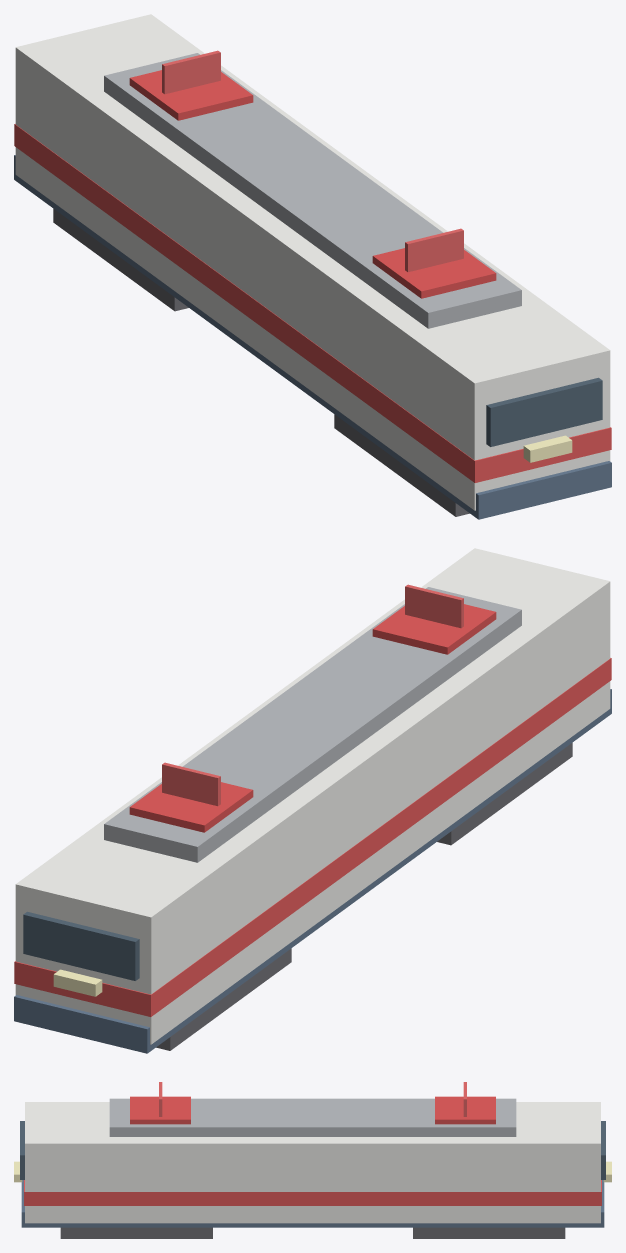
File: AURORA_engine.glb
3 renders of one model, top to bottom at view 1: azimuth 30°, elevation 25°; view 2: azimuth 150°, elevation 25°; view 3: azimuth 270°, elevation 25°, orthographic. The views are drawn at different scales.
Parts seen in each view (by area): view 1: RootNode; view 2: RootNode; view 3: RootNode.
Boxes of the visible parts, x1,y1,x2,y2 form: RootNode: [14, 14, 611, 519]; RootNode: [14, 548, 611, 1053]; RootNode: [14, 1082, 611, 1238].
Bounding box in the file's own units: 2.92 × 4.25 × 17.65.
